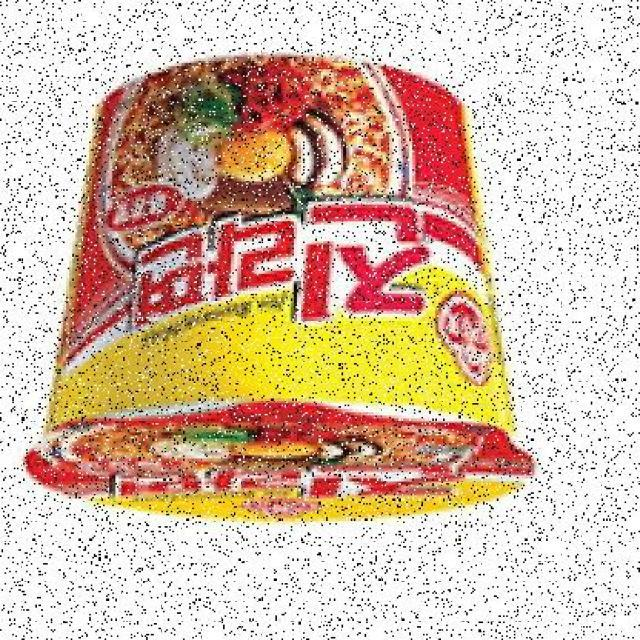Miscellaneous: (10, 46, 544, 532)
